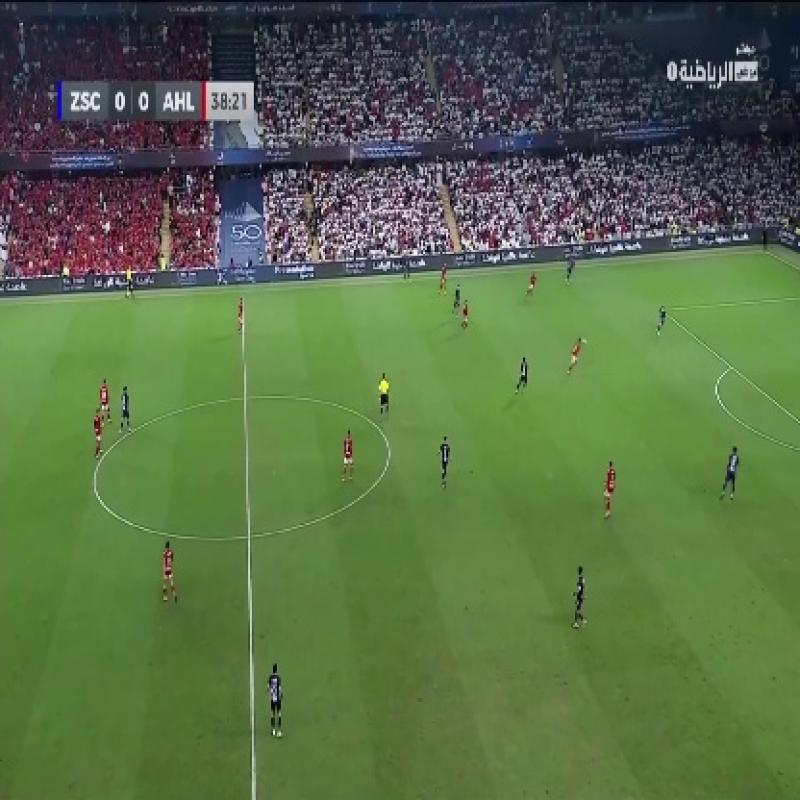1: (752, 242, 770, 258)
10: (724, 356, 738, 374)
13: (234, 286, 251, 299)
14: (231, 382, 256, 410)
15: (233, 517, 260, 552)
c: (374, 435, 406, 468), (84, 468, 106, 496)
